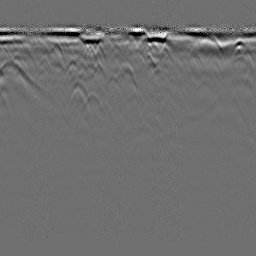cavity: (115, 59, 138, 89)
